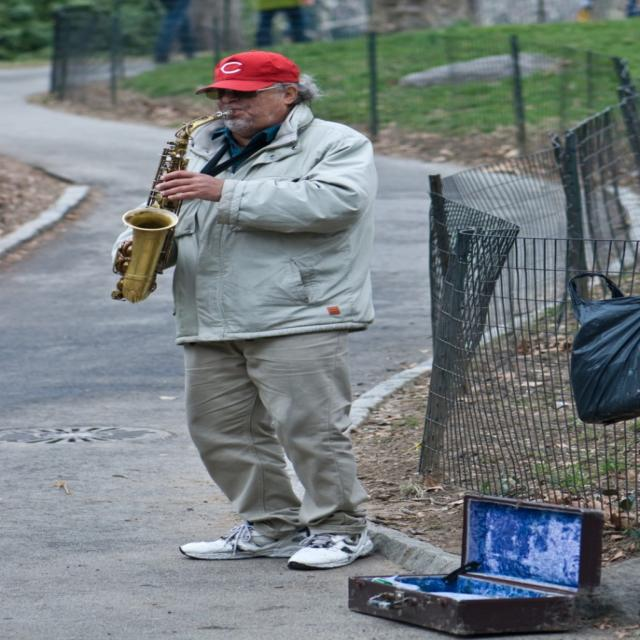saxophone: (110, 109, 247, 305)
